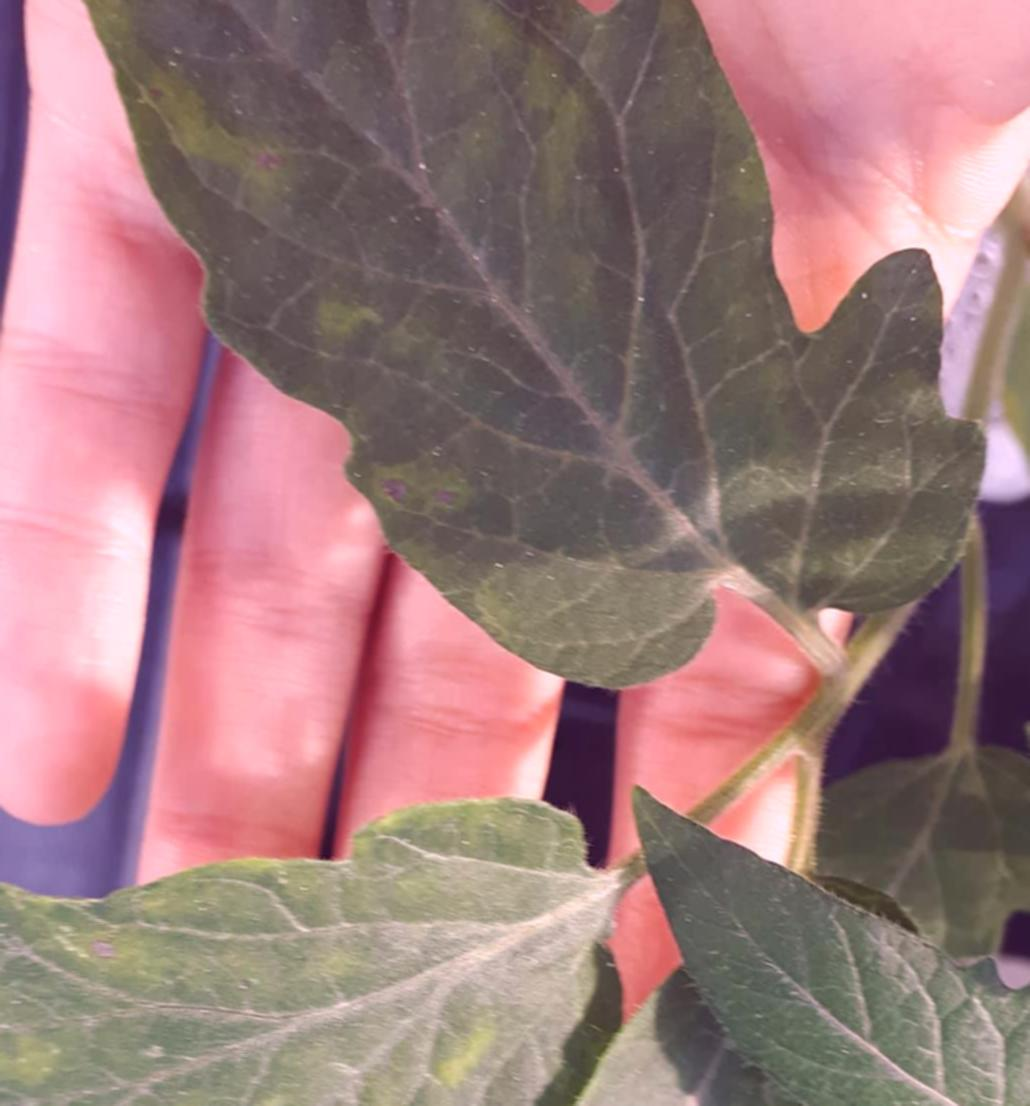Tomato mold leaf: (60, 0, 995, 712), (0, 824, 645, 1106), (623, 746, 1030, 1106)
